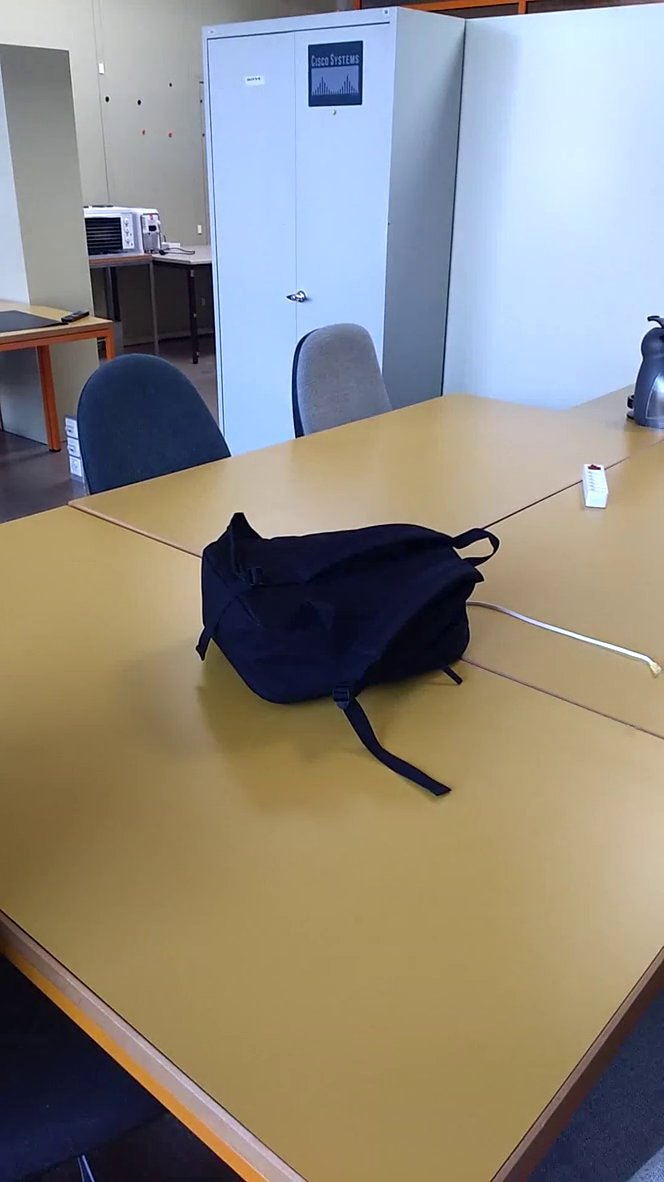bag: (170, 503, 519, 808)
chair: (73, 344, 251, 501), (284, 318, 405, 445)
